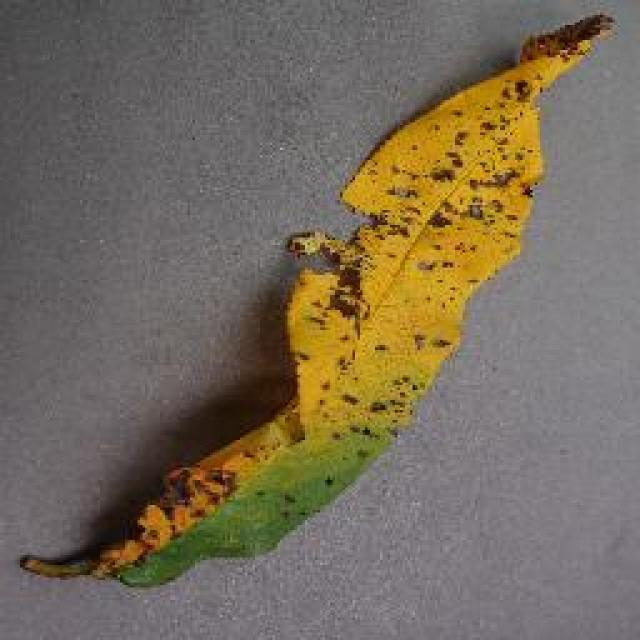Bacterial_spot: (13, 5, 615, 615)
